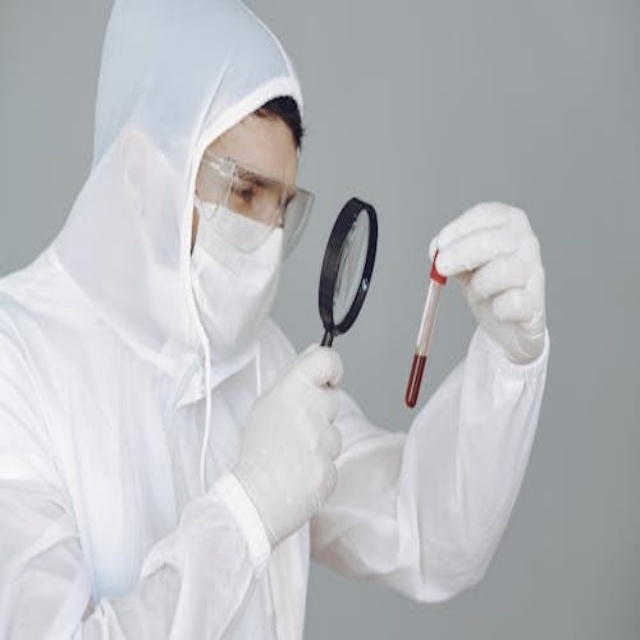Gafas: (195, 151, 315, 257), (316, 196, 378, 351)
Guantes: (228, 341, 347, 548), (429, 199, 547, 367)
Mascara: (186, 190, 292, 379)
